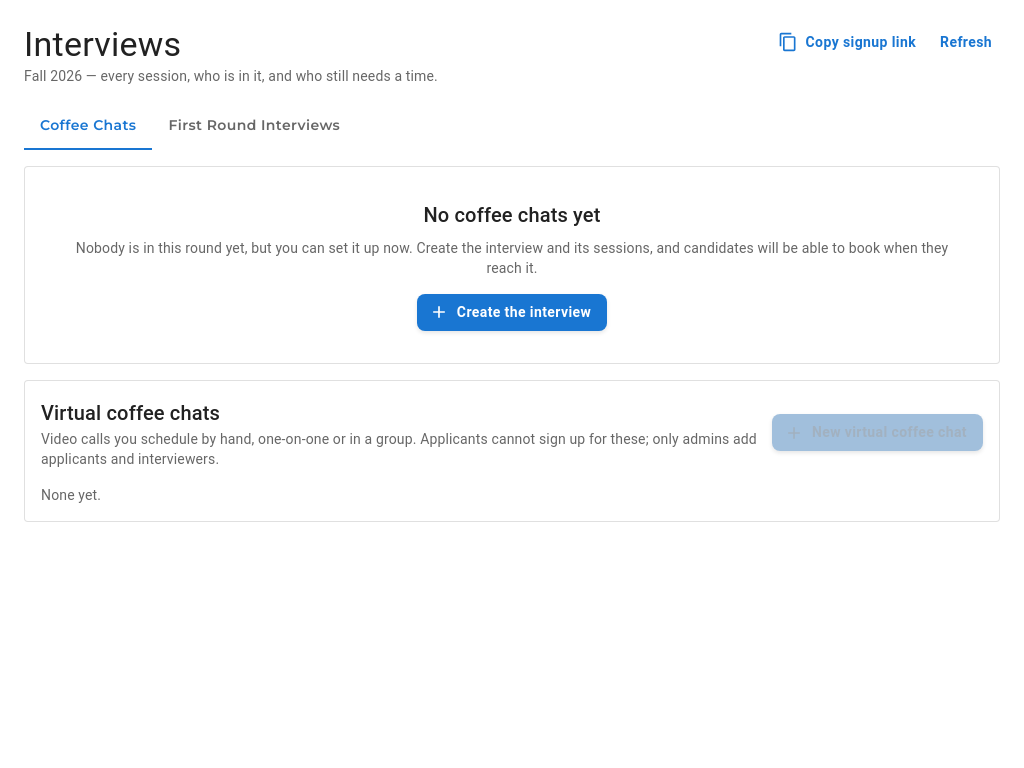
AdminInterviews round setup › opens the create dialog on the round of the tab it came from
What coordinates should you click on to do the following:
click the tab "First Round Interviews"
I would click on:
 (254, 126)
Its box is [152, 102, 356, 150].
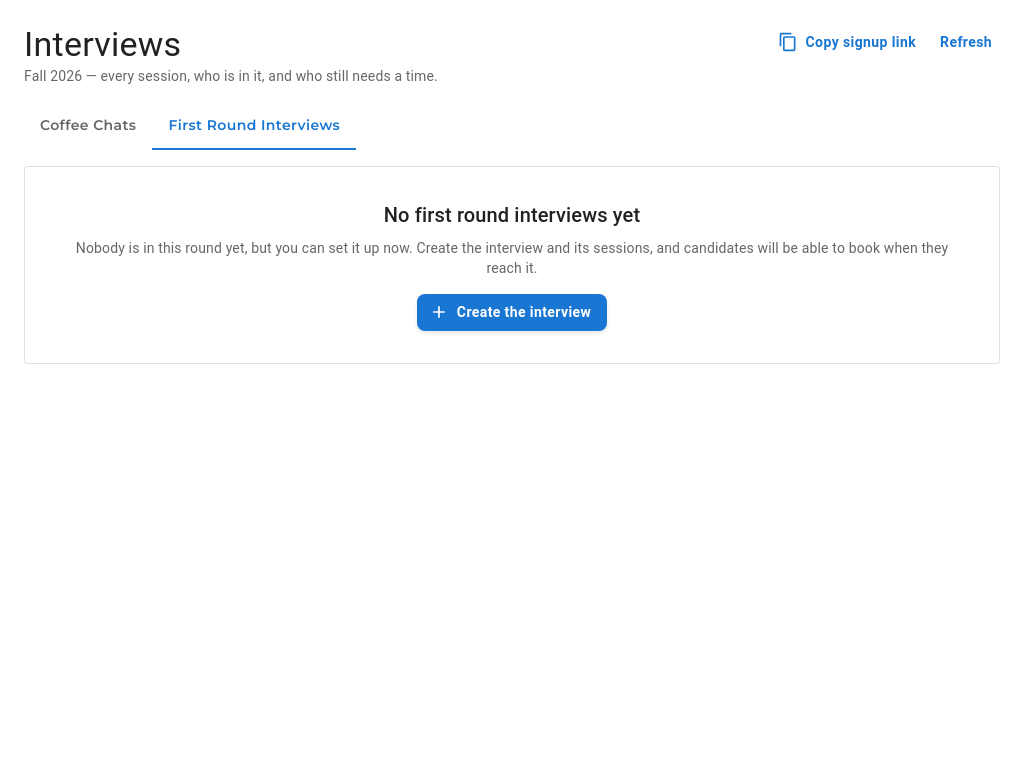
What coordinates should you click on to do the following:
click the button "Create the interview"
I would click on:
 (512, 312)
Its box is [417, 294, 607, 330].
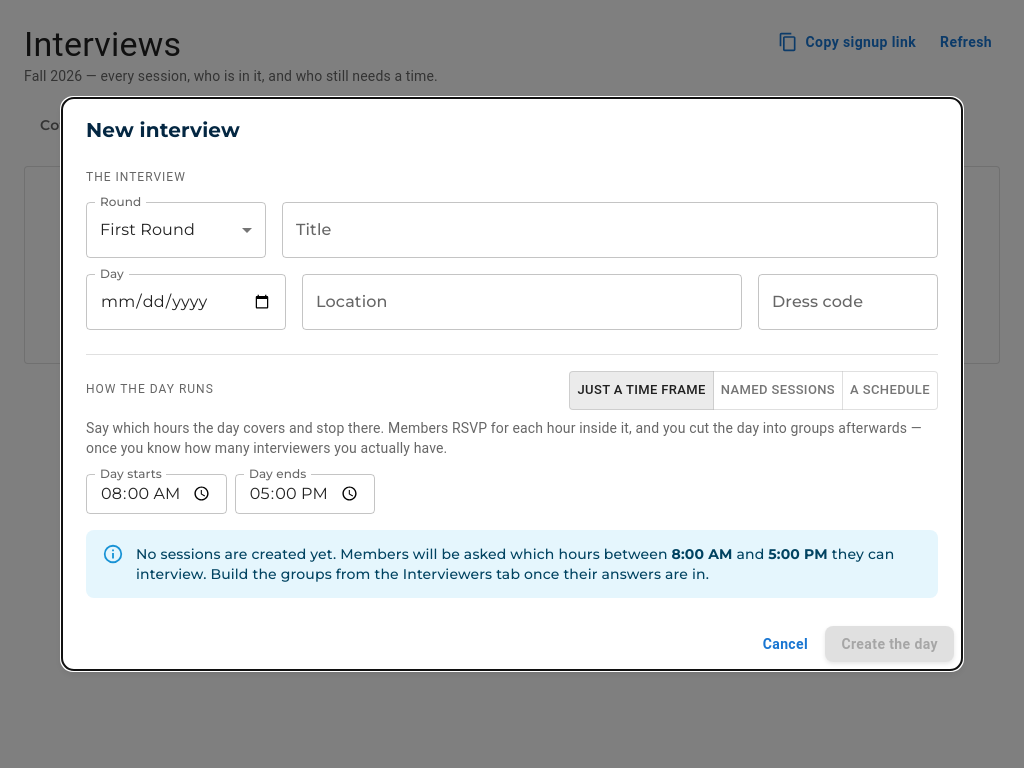
Result: the dropdown labelled "First Round" is shown at [100, 220, 195, 239]
